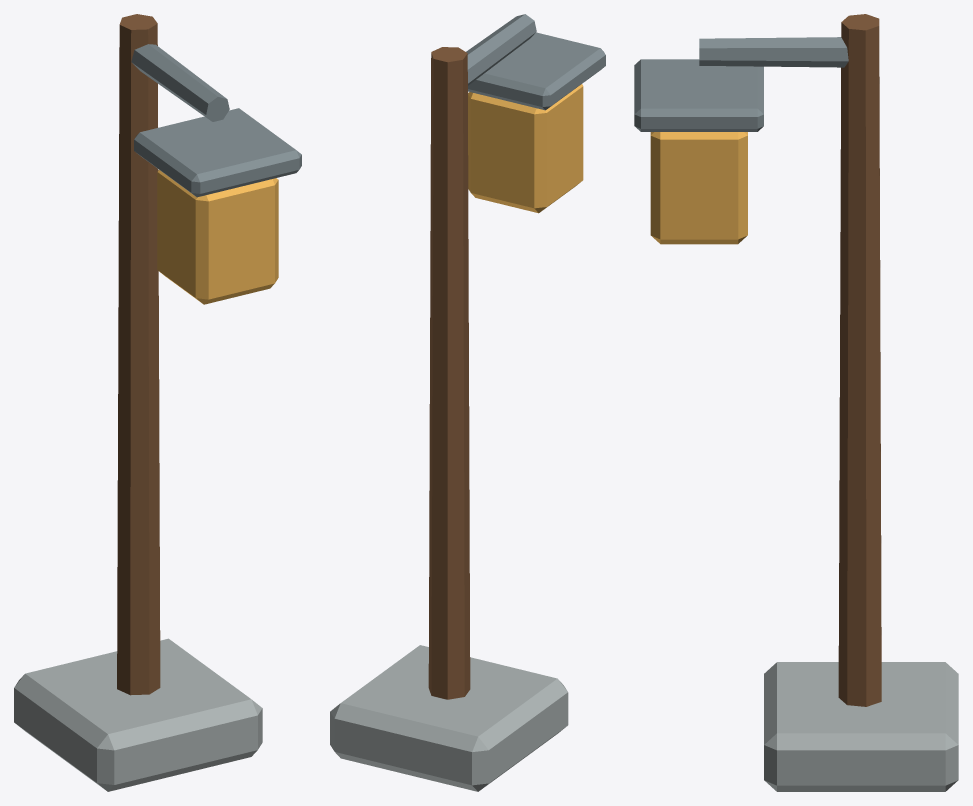
The model's file is CC_Lantern.fbx.
3 renders of one model, left to right at view 1: azimuth 30°, elevation 25°; view 2: azimuth 150°, elevation 25°; view 3: azimuth 270°, elevation 25°, orthographic. The views are drawn at different scales.
Parts seen in each view (by area): view 1: Lantern post, Lantern foot, Lantern glow, Lantern cap, Lantern arm; view 2: Lantern post, Lantern foot, Lantern glow, Lantern cap, Lantern arm; view 3: Lantern post, Lantern foot, Lantern glow, Lantern cap, Lantern arm.
Part boxes in pixels (<box>): Lantern post: <box>117,14,160,695</box>; Lantern foot: <box>14,638,262,791</box>; Lantern glow: <box>157,170,278,304</box>; Lantern cap: <box>134,108,301,197</box>; Lantern arm: <box>131,44,229,121</box>; Lantern post: <box>428,47,470,699</box>; Lantern foot: <box>330,645,568,791</box>; Lantern glow: <box>468,84,583,213</box>; Lantern cap: <box>468,32,605,110</box>; Lantern arm: <box>466,14,536,85</box>; Lantern post: <box>838,14,881,706</box>; Lantern foot: <box>764,662,958,791</box>; Lantern glow: <box>650,132,747,244</box>; Lantern cap: <box>634,59,763,131</box>; Lantern arm: <box>699,37,848,67</box>.
Bounding box in the file's own units: 0.6 × 2.5 × 1.
